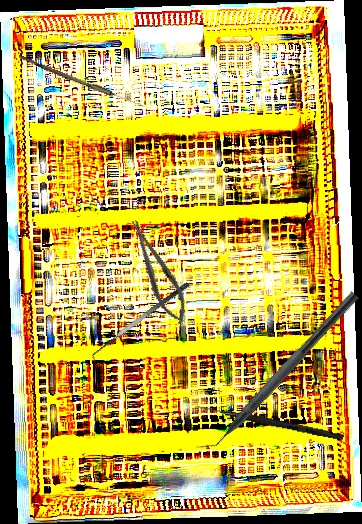Chopper: (193, 281, 359, 462)
Hook Surgical: (193, 403, 345, 441)
Needle Holder: (122, 214, 195, 329)
Spatula Surgical: (87, 280, 196, 365)
Surgical Spoon: (17, 54, 147, 110)
